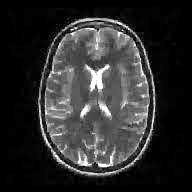Normal_Brain: (39, 1, 192, 192)
